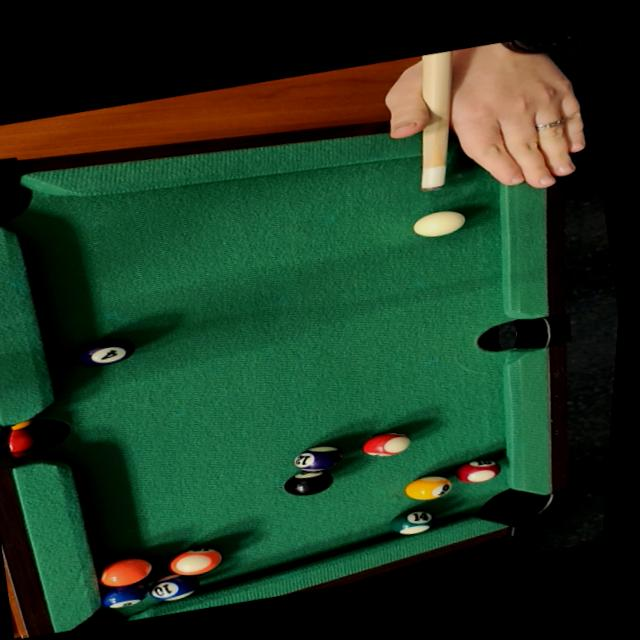cue ball: (404, 203, 471, 244)
other: (70, 329, 142, 375), (89, 549, 159, 594), (139, 567, 205, 608), (286, 437, 348, 479), (164, 541, 226, 583), (93, 575, 159, 614), (446, 451, 509, 489), (355, 424, 414, 463), (396, 469, 457, 506), (279, 463, 337, 501), (382, 505, 442, 541)
